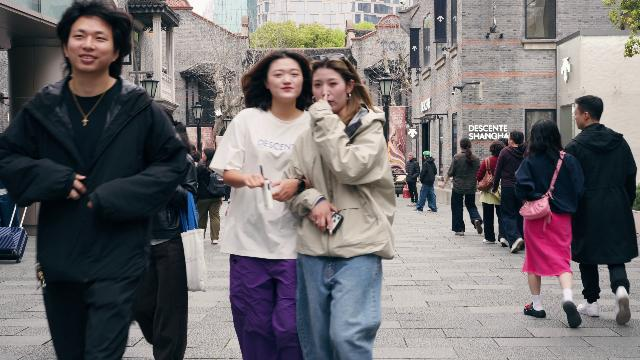person: (0, 0, 192, 360), (285, 51, 396, 360), (210, 48, 315, 360), (563, 95, 639, 325), (512, 119, 586, 329), (491, 130, 526, 253), (440, 138, 483, 236), (476, 140, 508, 244), (412, 151, 438, 213), (404, 153, 421, 206)
